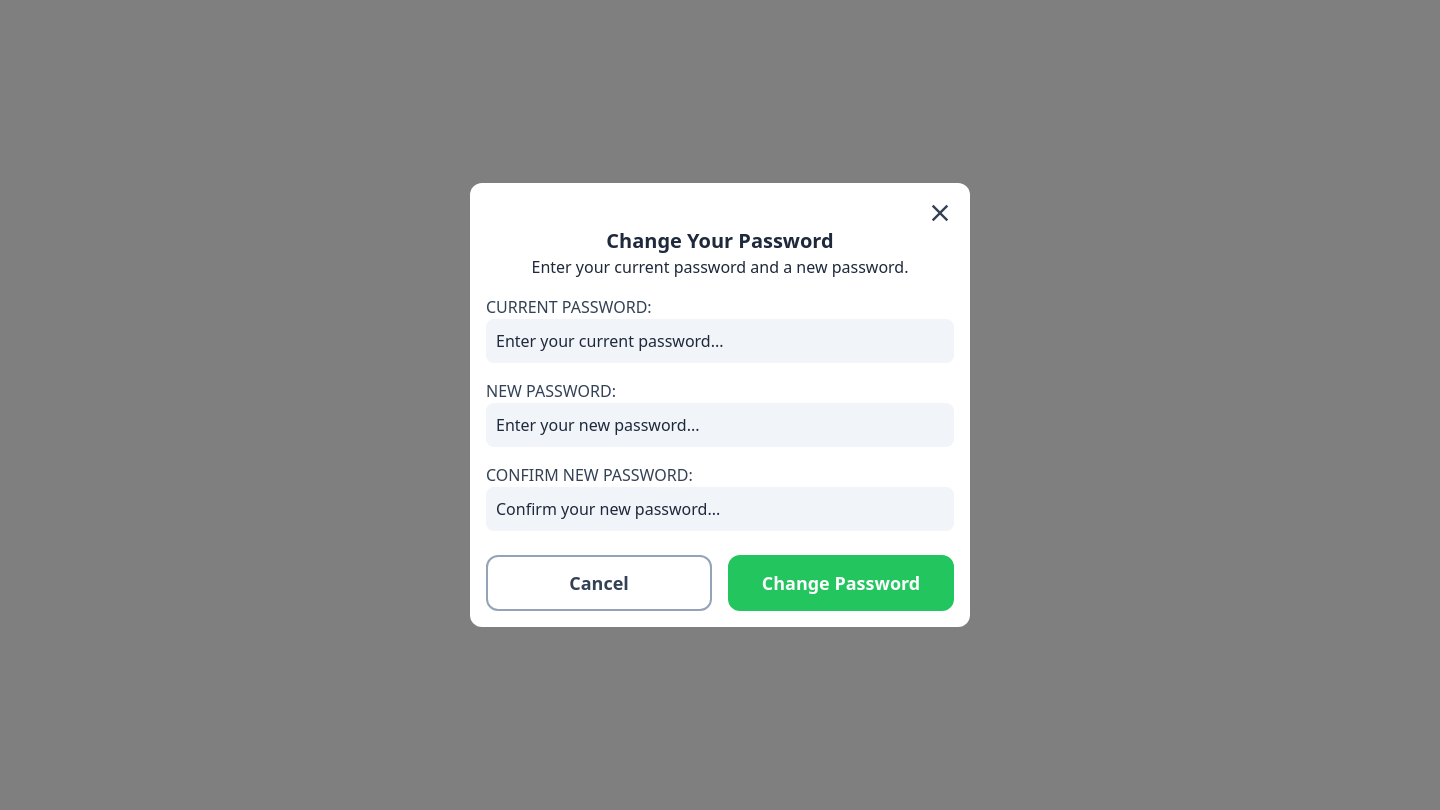
Test case: <ChangePasswordModal /> › prevents password change with wrong current password
In the password field with test id "current-password-input": [720, 341] box [496, 329, 944, 353], type "wrong_password"
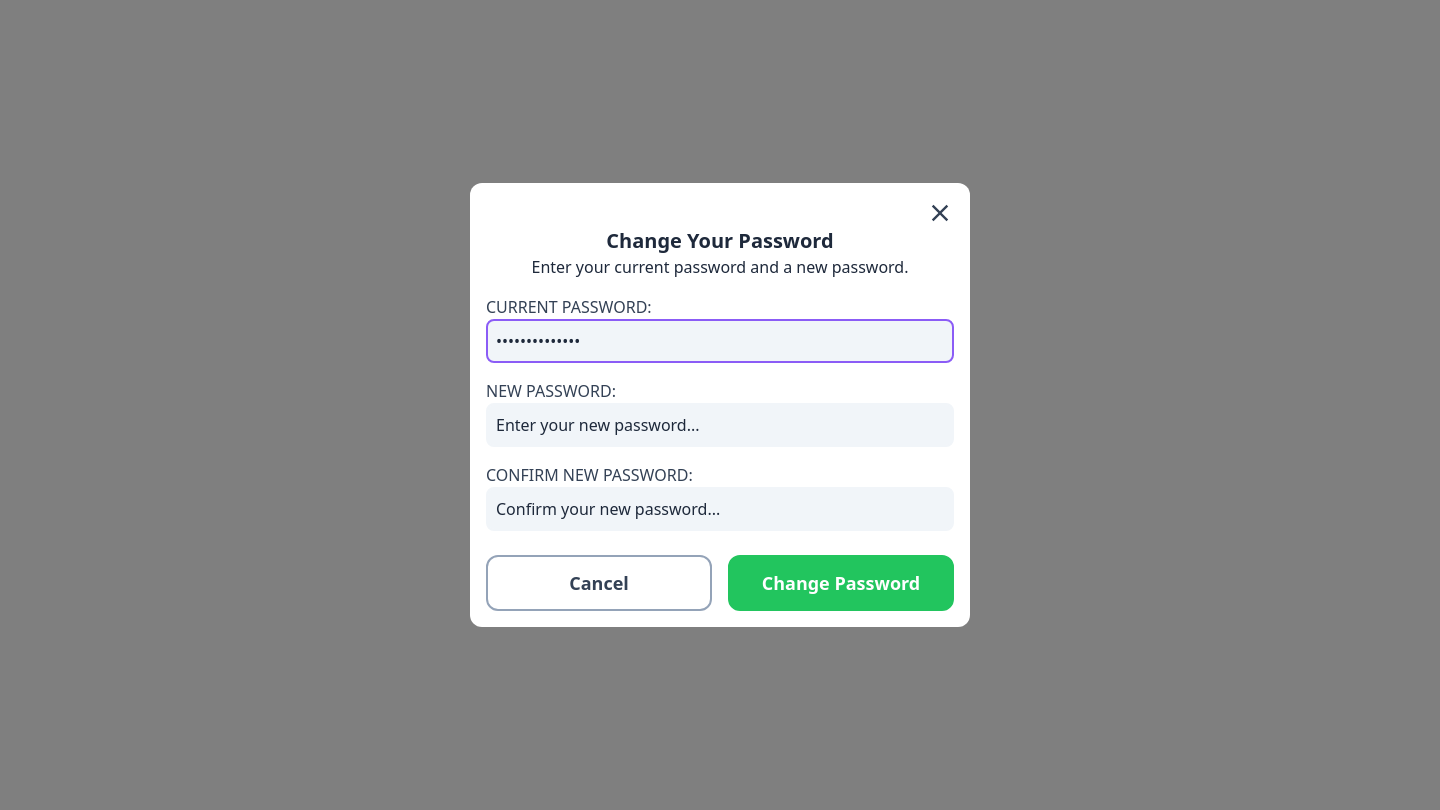
In the password field with test id "new-password-input": [720, 425] box [496, 413, 944, 437], type "new_password"
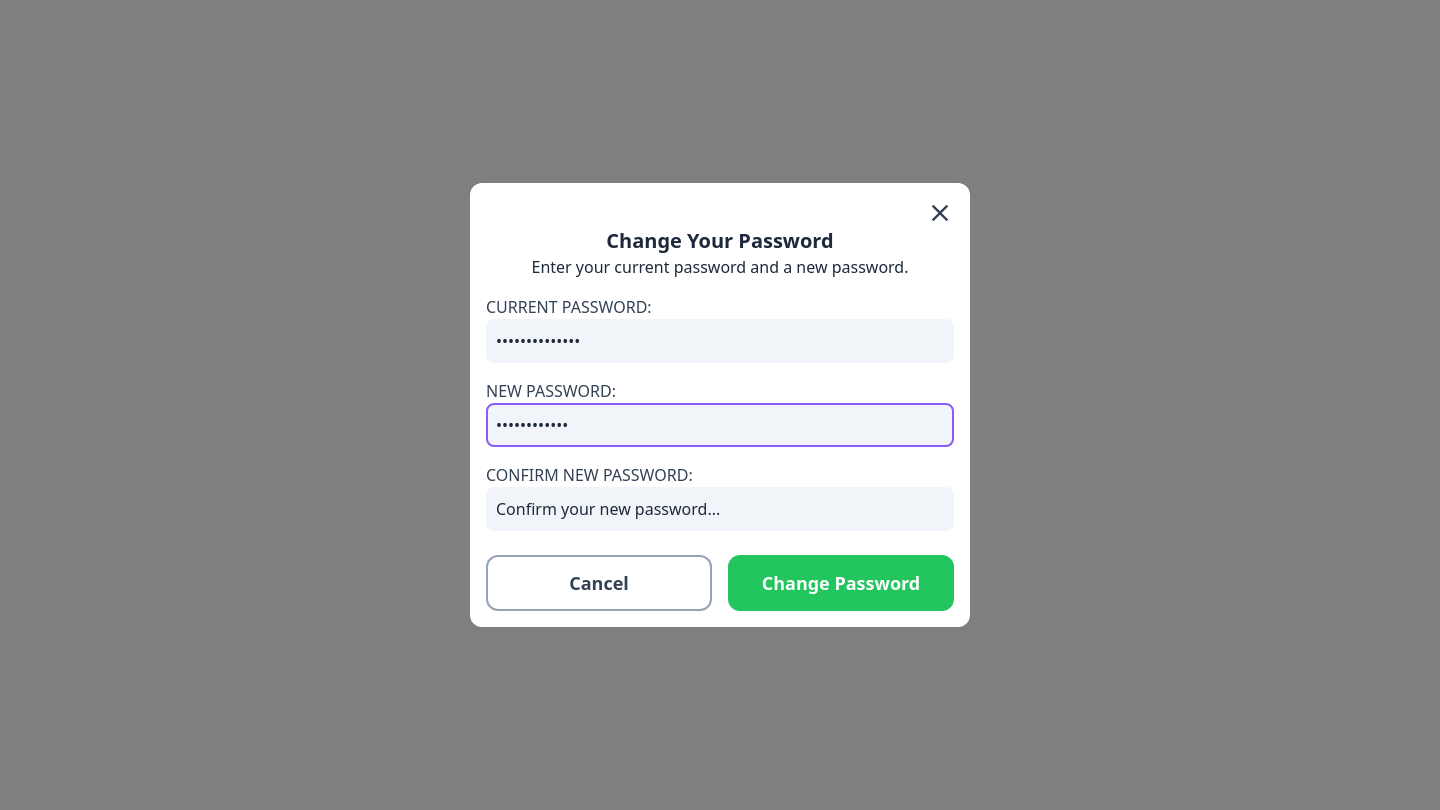
In the password field with test id "confirm-new-password-input": [720, 509] box [496, 497, 944, 521], type "new_password"
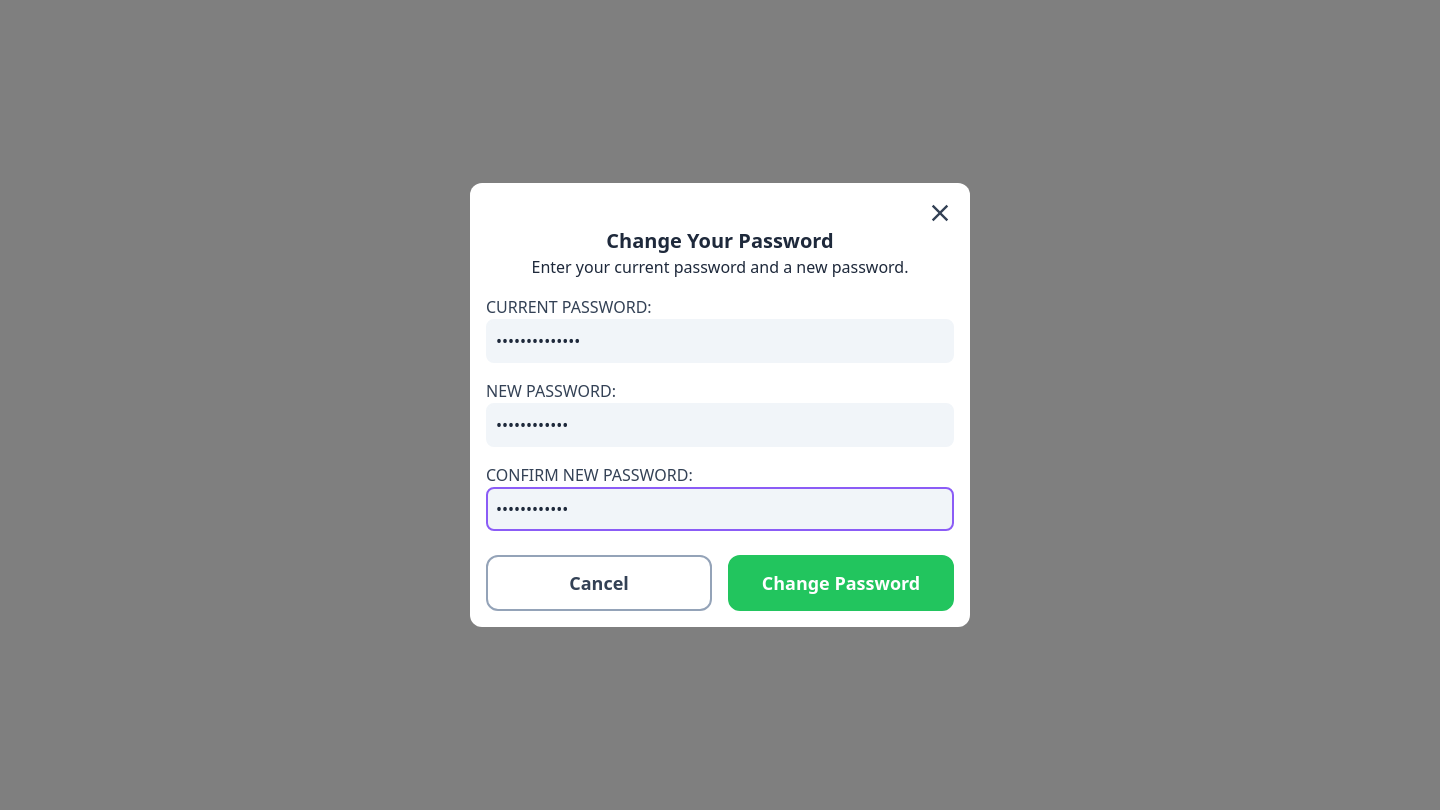
Click the button with test id "submit-change-password-button": [841, 583] box [728, 555, 954, 611]
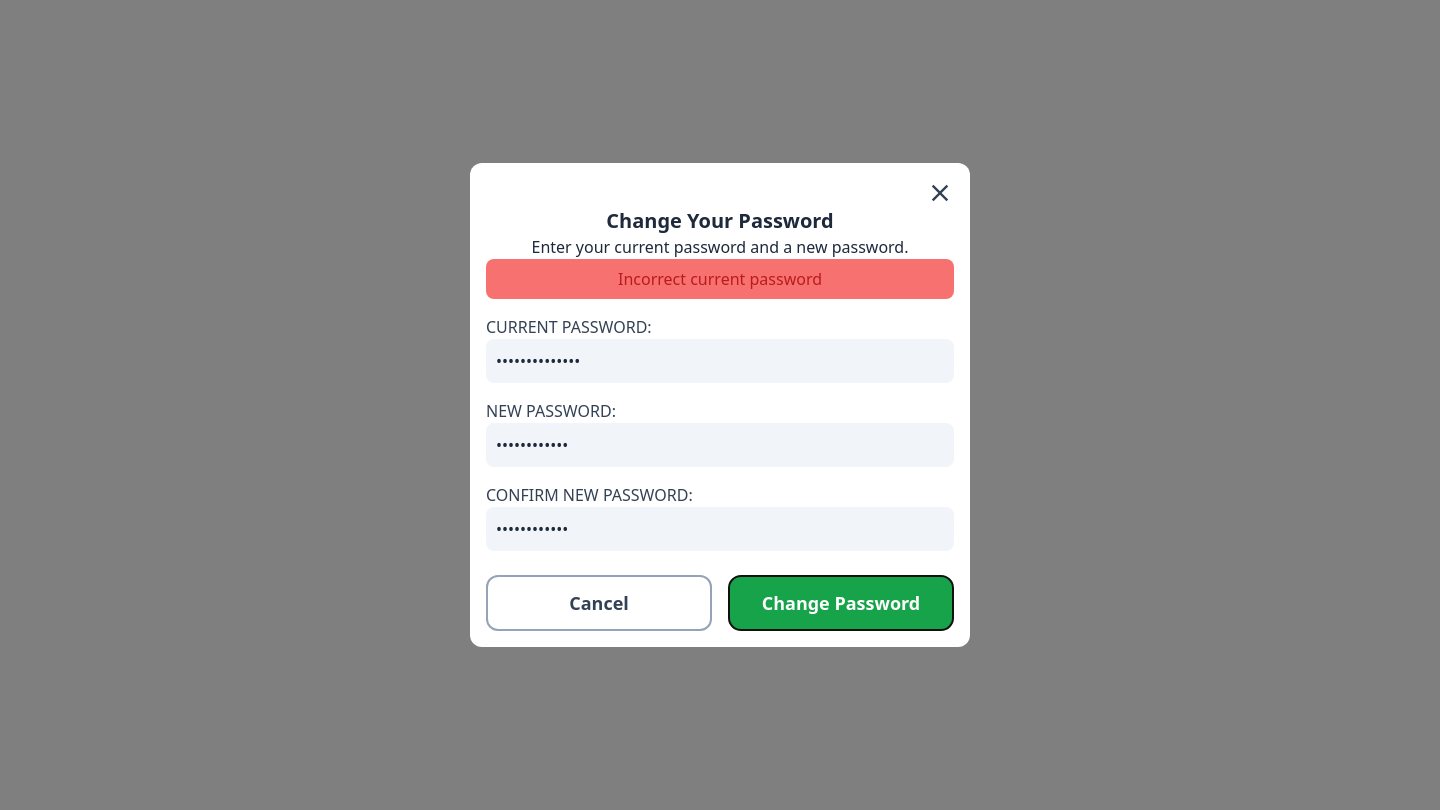
Expected: the text "Incorrect current password" is shown, [486, 259, 954, 299]
Expected: the text with test id "notify-message" reads "Incorrect current password", [618, 268, 822, 290]
